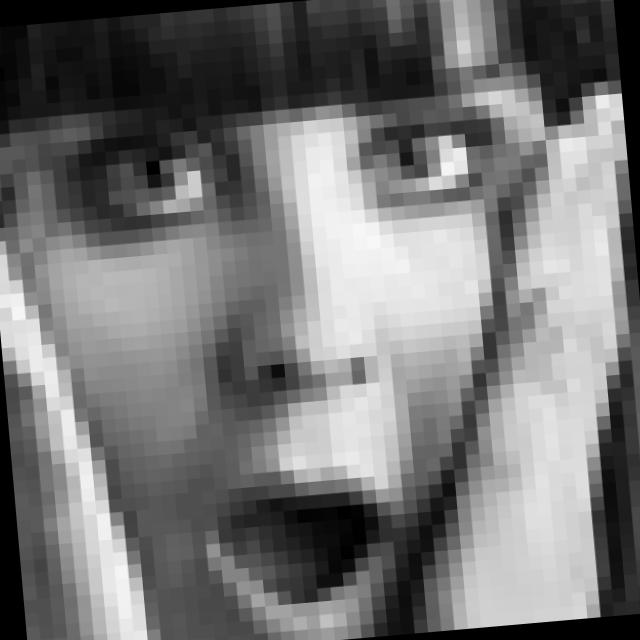surprise: (43, 53, 556, 640)
